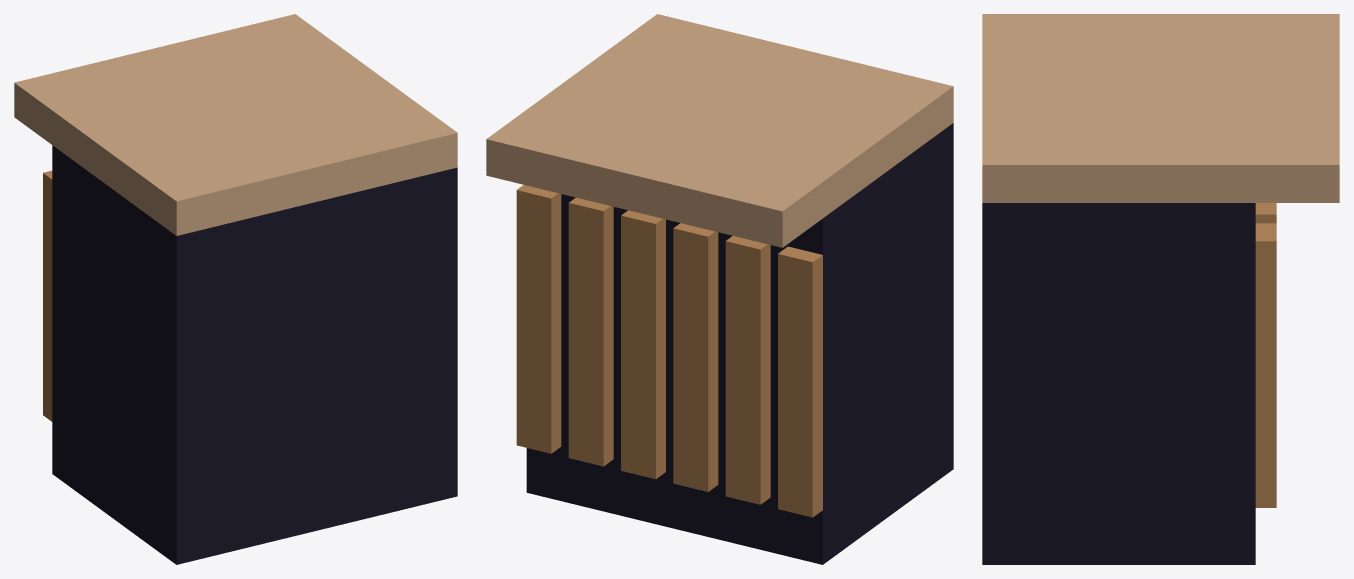
The model's file is bar_wall.gltf.
The picture shows the model from 3 angles, left to right: view 1: azimuth 30°, elevation 25°; view 2: azimuth 150°, elevation 25°; view 3: azimuth 270°, elevation 25°; orthographic projection. The views are drawn at different scales.
Parts seen in each view (by area): view 1: Layer.1; view 2: Layer.1; view 3: Layer.1.
Part boxes in pixels (x1,y1,x2,y2): Layer.1: (14, 14, 457, 564); Layer.1: (486, 14, 953, 564); Layer.1: (982, 14, 1339, 564).
Bounding box in the file's own units: 17 × 21 × 17.
